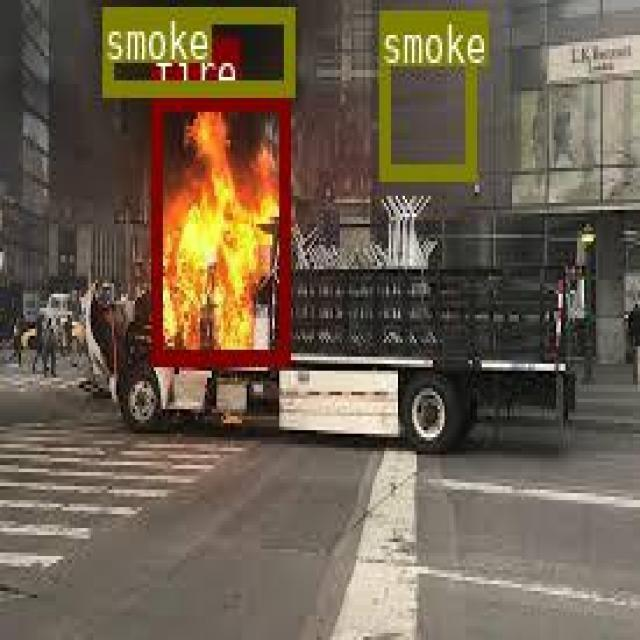fire: (150, 93, 287, 364)
smoke: (102, 6, 293, 92), (378, 10, 474, 176)
